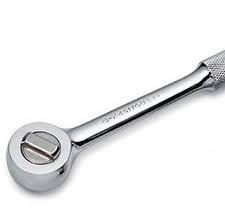wrench: (4, 49, 224, 192)
